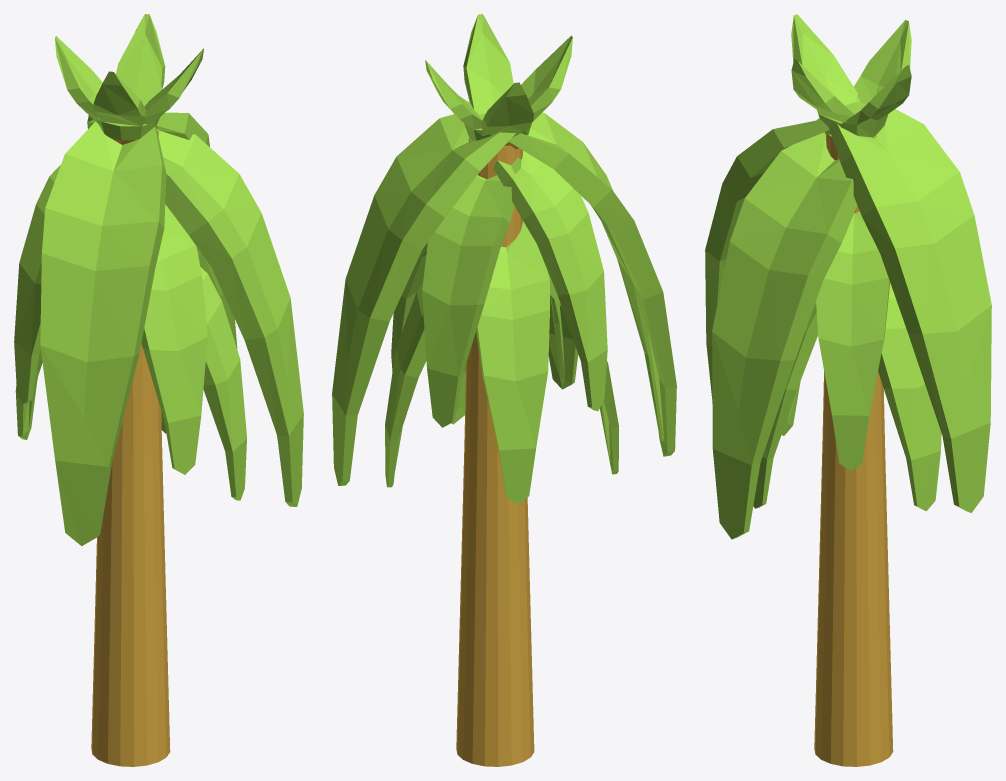
Rendered from drooping-palm.glb.
The picture shows the model from 3 angles, left to right: view 1: azimuth 30°, elevation 25°; view 2: azimuth 150°, elevation 25°; view 3: azimuth 270°, elevation 25°; orthographic projection.
Visible parts, largest first — view 1: model; view 2: model; view 3: model.
Boxes of the visible parts, box(x1,y1,x2,y2) form: model: box(14, 14, 303, 766); model: box(332, 14, 676, 766); model: box(705, 14, 991, 766).
Bounding box in the file's own units: 0.2323 × 0.624 × 0.2278.
